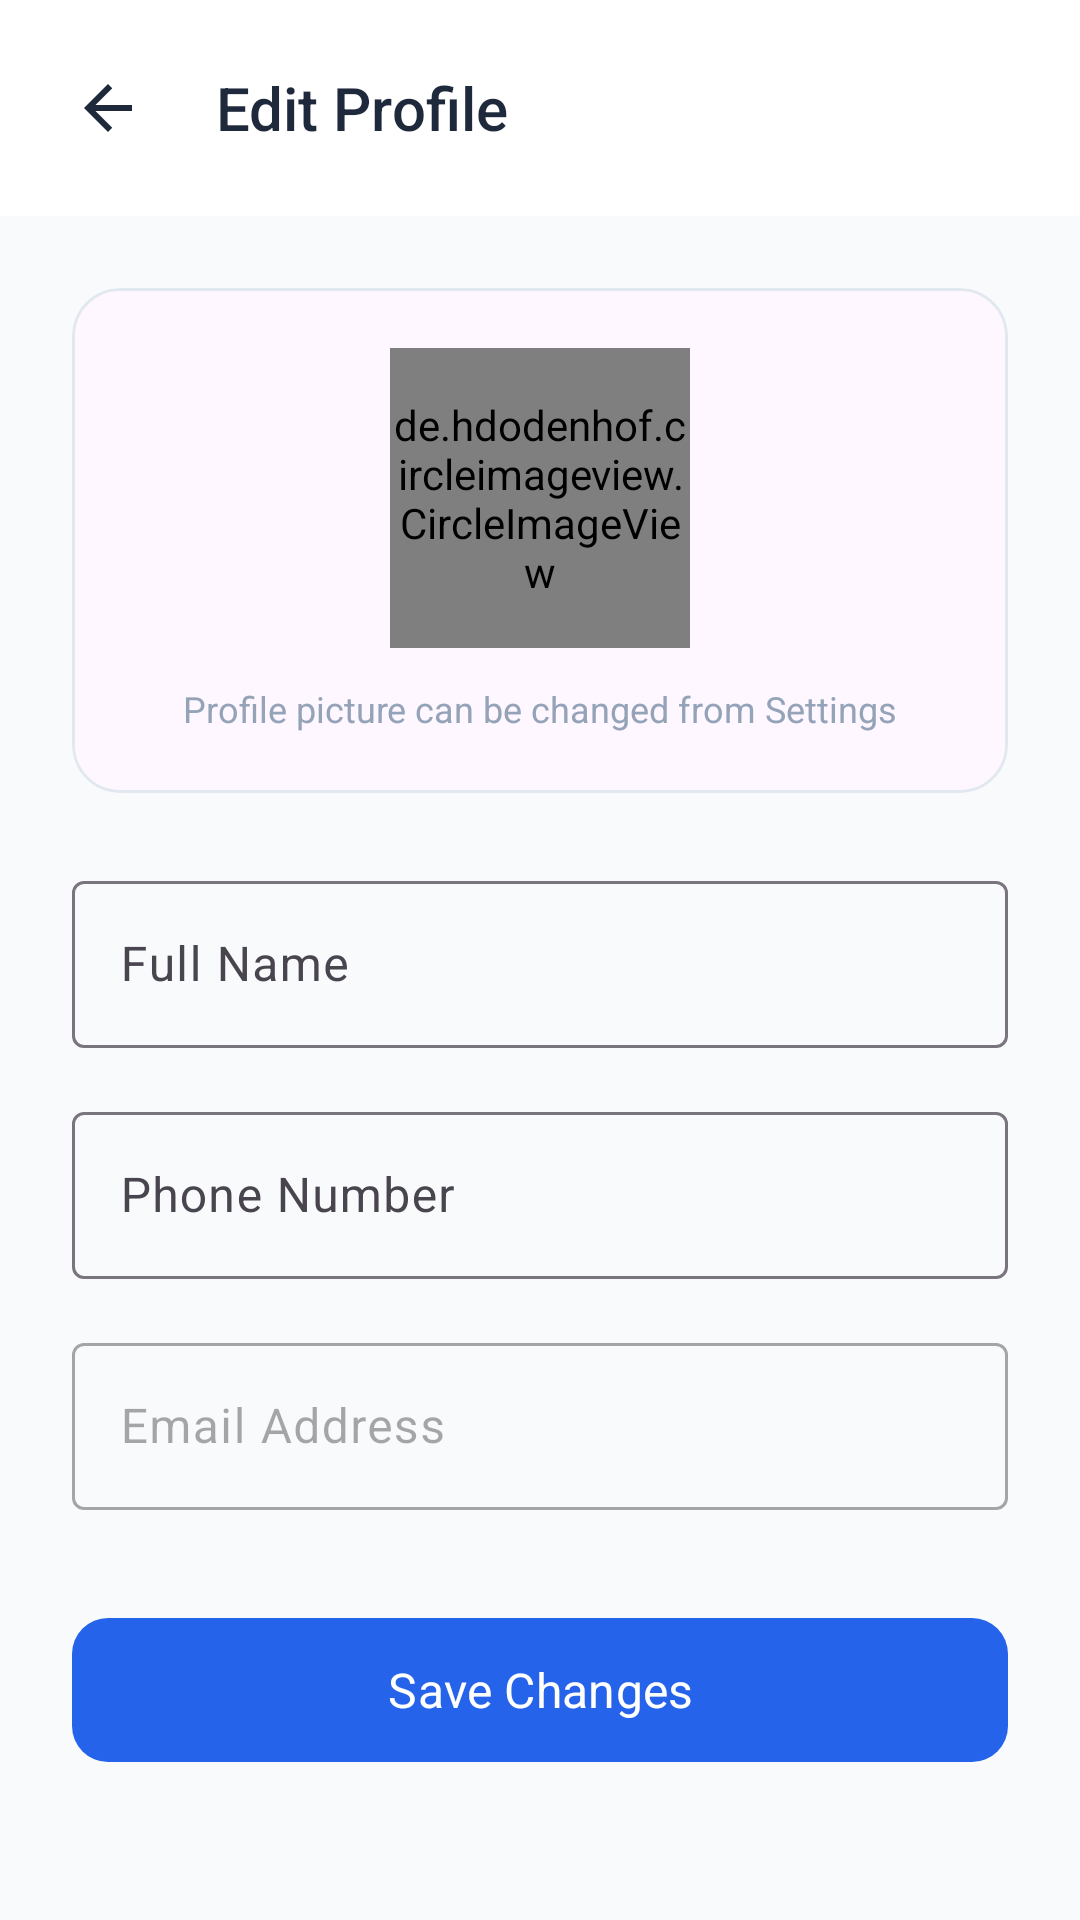

Icons on this 1080*1920 Android screen, each with the point to tap as (x,y):
Back: (108,108)
